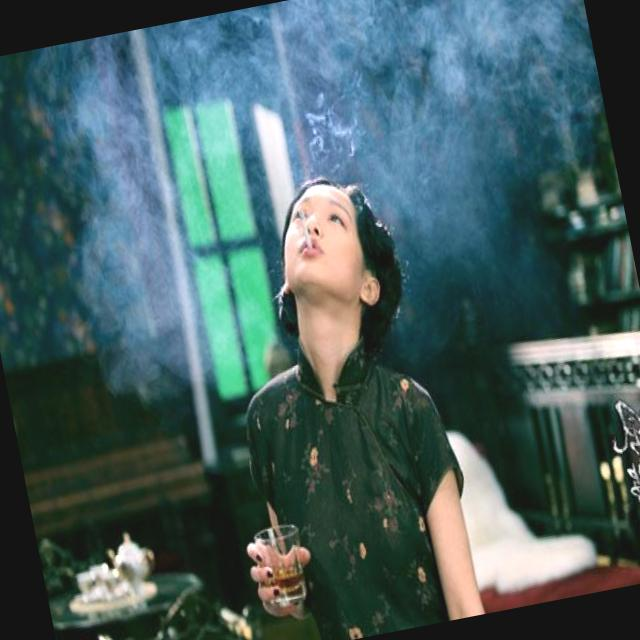cigarette: (288, 197, 322, 270)
